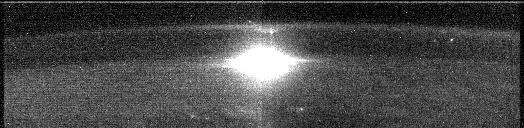negative: (249, 27, 280, 37)
